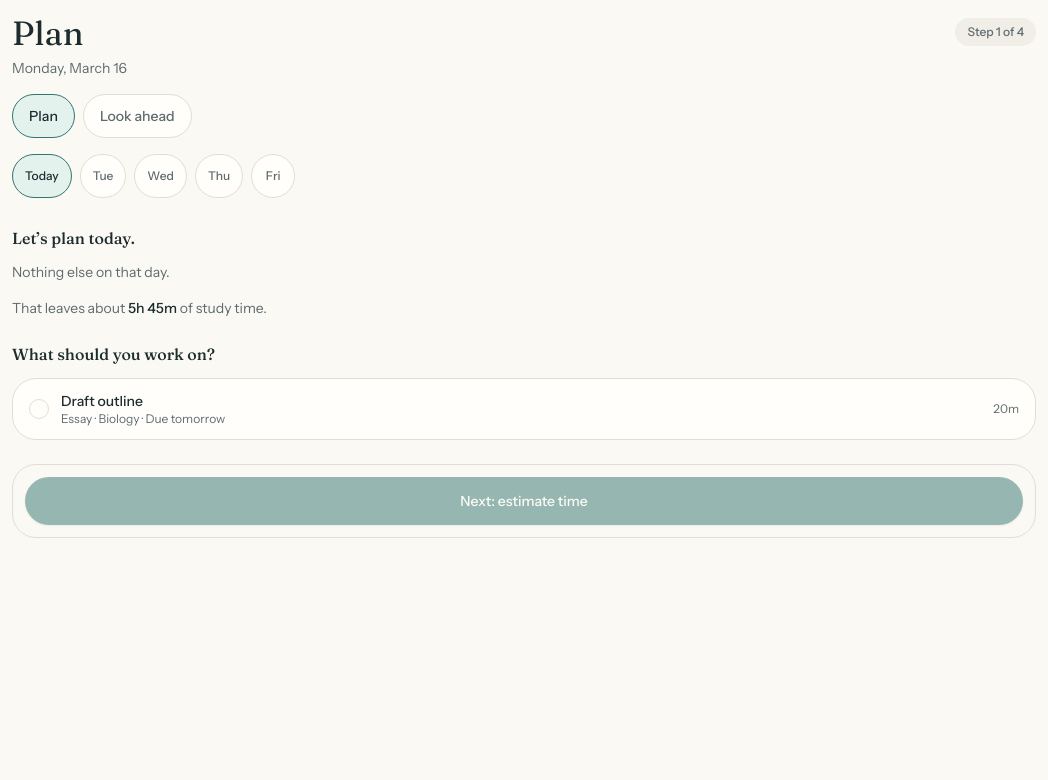
PlanPage › completes the full flow: select, estimate with a coaching-free running total, schedule, and confirm
Expected: the text "Step 1 of 4" is shown, [955,18,1036,46]
Click the button "Draft outline Essay · Biology · Due tomorrow 20m" at (102, 401), box [12,378,1036,440]
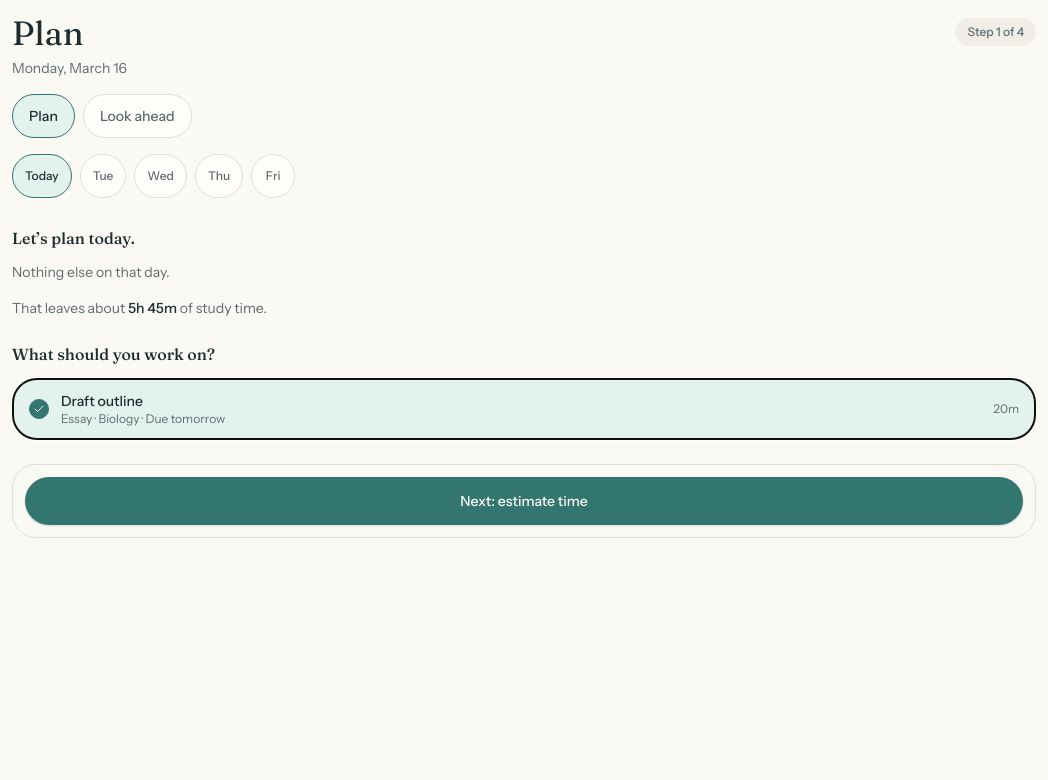
Click the button "Next: estimate time" at (524, 501), box [25,477,1023,525]
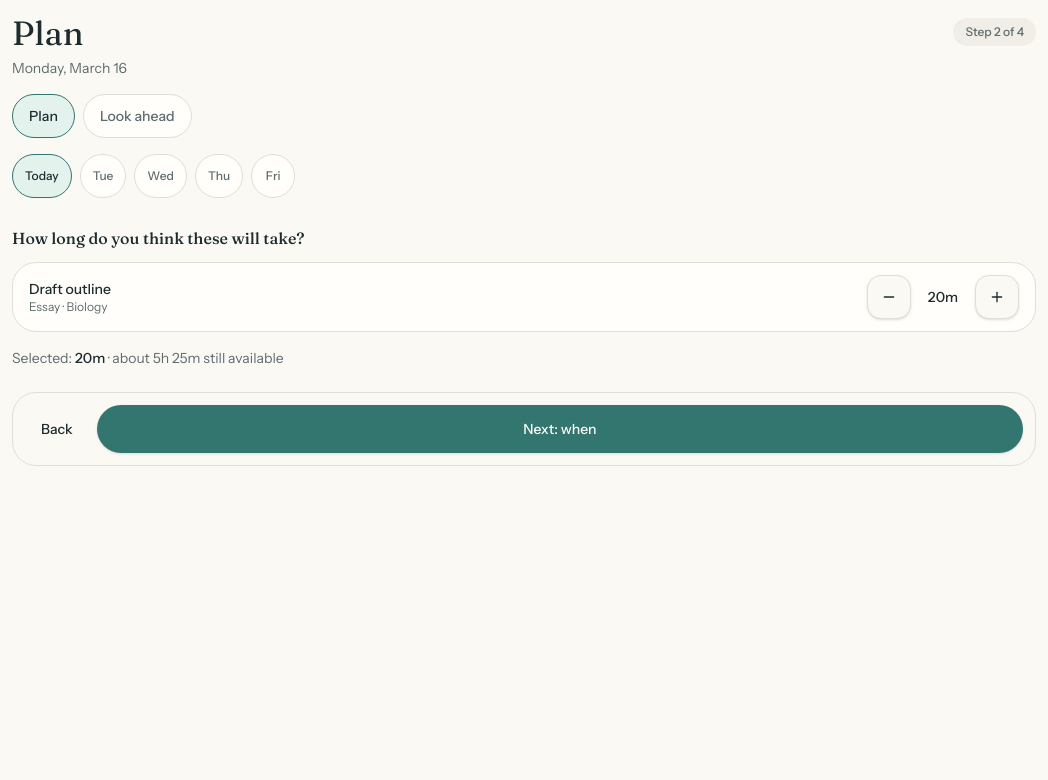
Now the text "Step 2 of 4" is shown, box [954,18,1036,46]
Now the text "Selected: 20m · about 5h 25m still available" is shown, box [12,349,284,367]
Click the button named "increase planned time for draft outline" at (997, 297), box [975,275,1019,319]
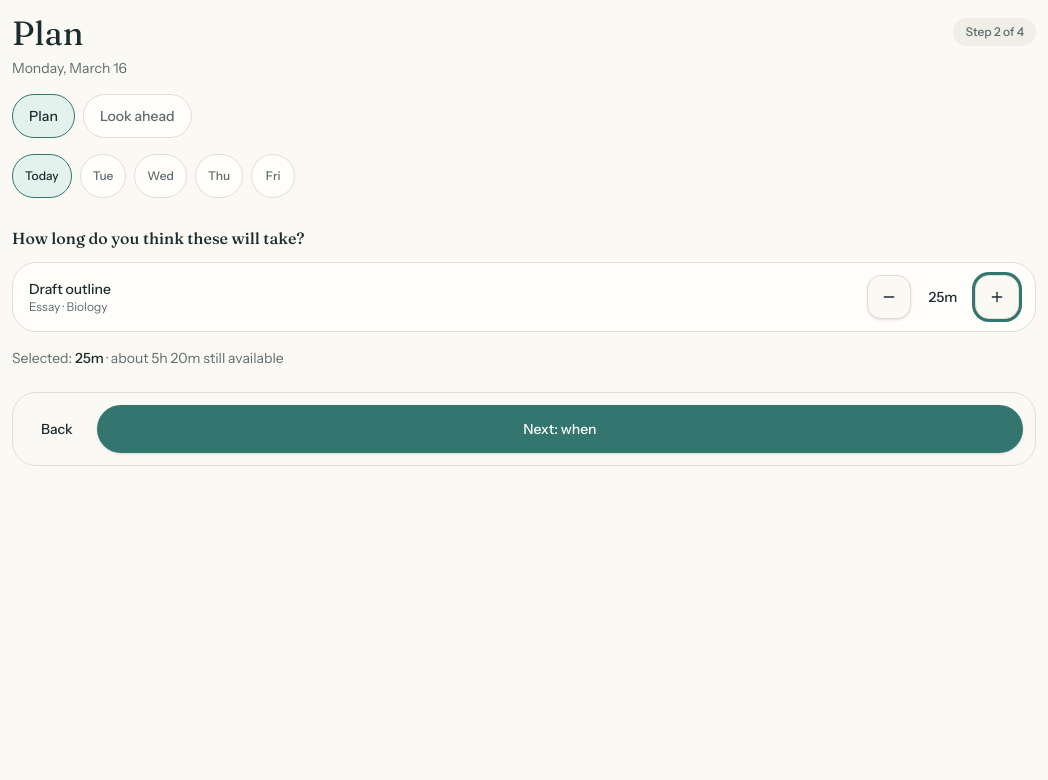
Now the text "Selected: 25m · about 5h 20m still available" is shown, box [12,349,284,367]
Click the button "Next: when" at (560, 429), box [97,405,1023,453]
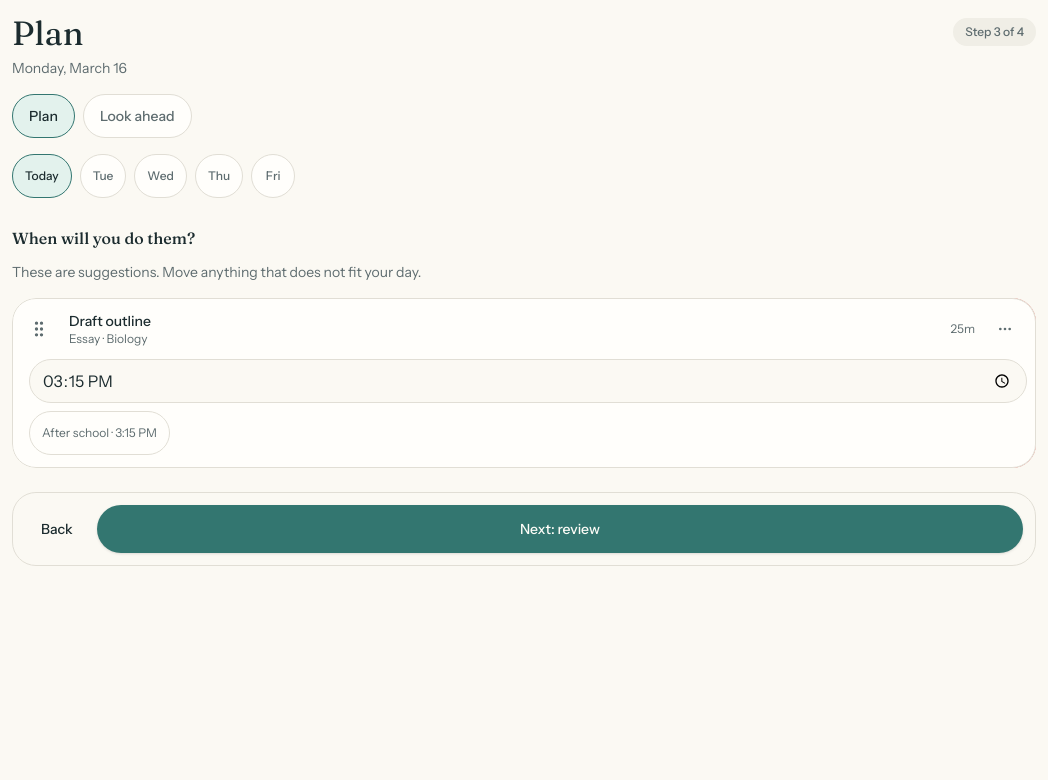
Now the text "Step 3 of 4" is shown, box [953,18,1036,46]
Now the text "These are suggestions" is shown, box [12,263,421,281]
Click the button "Next: review" at (560, 529), box [97,505,1023,553]
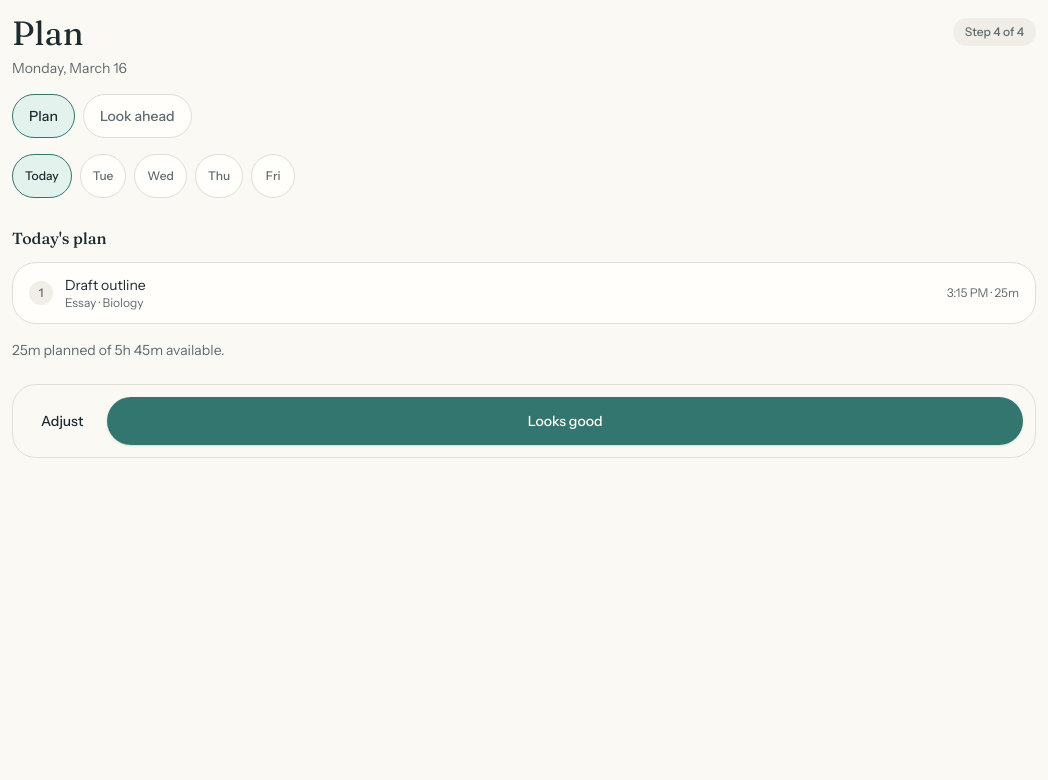
Expected: the text "Draft outline" is shown, [65,276,146,294]
Now the text "Step 4 of 4" is shown, box [953,18,1036,46]
Click the button "Looks good" at (565, 421), box [107,397,1023,445]
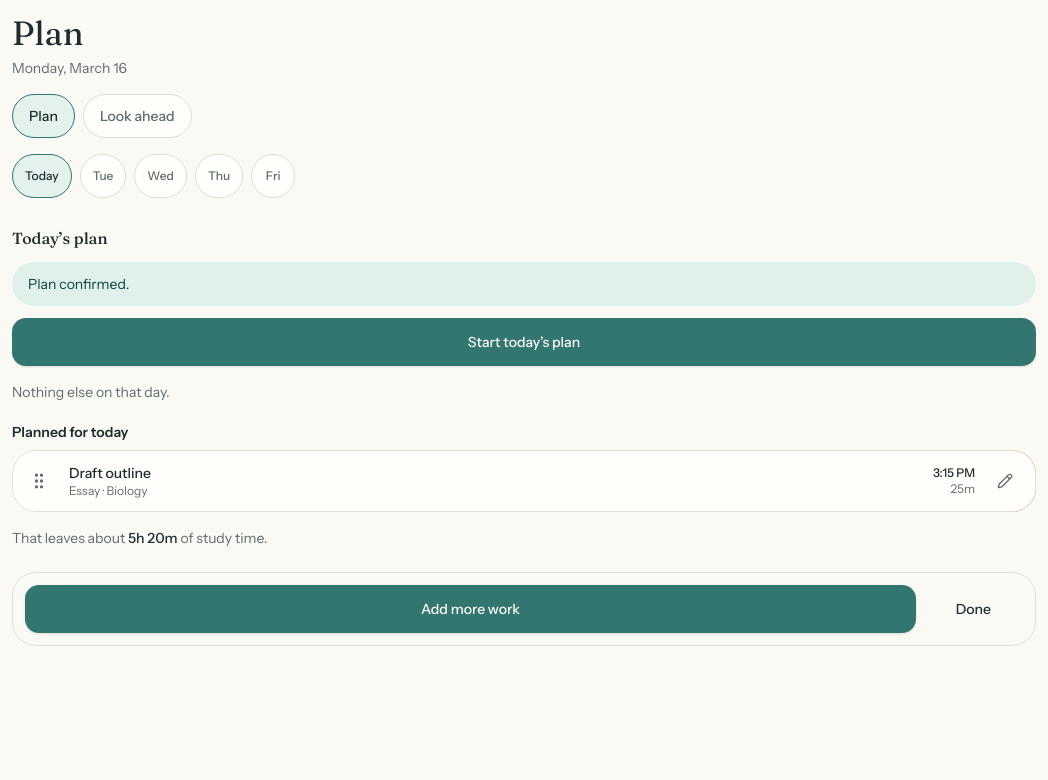
Now the text "Plan confirmed." is shown, box [12,262,1036,306]
